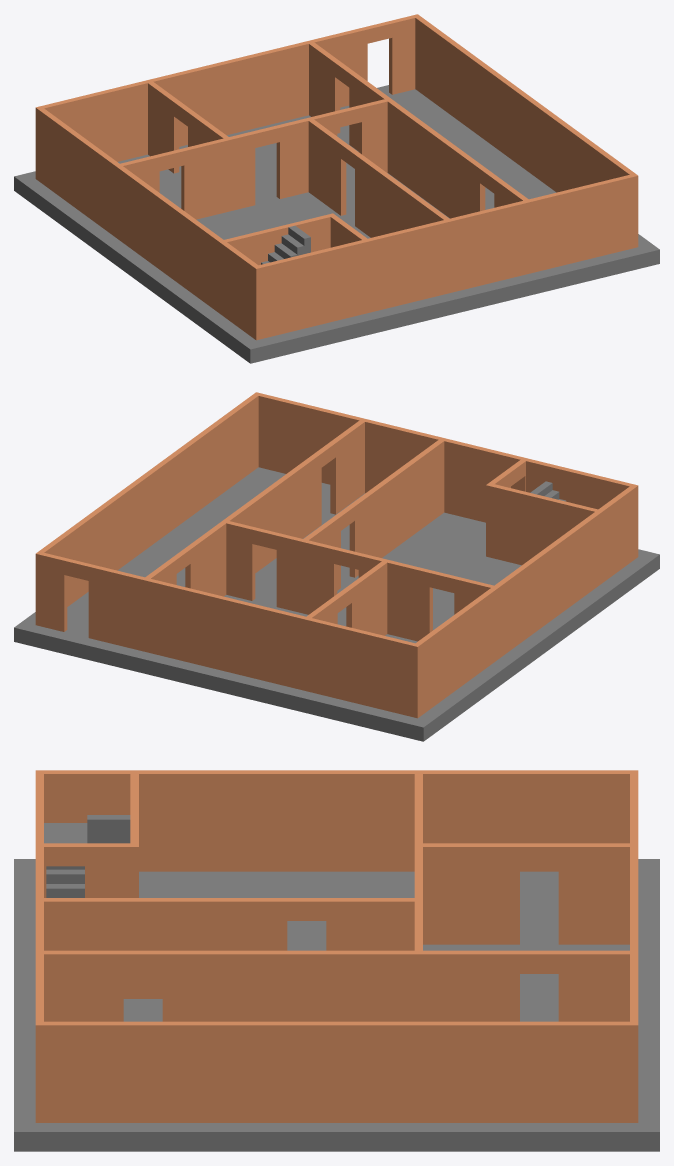
File: SM_Level_0.fbx
The picture shows the model from 3 angles, top to bottom: view 1: azimuth 30°, elevation 25°; view 2: azimuth 150°, elevation 25°; view 3: azimuth 270°, elevation 25°; orthographic projection. The views are drawn at different scales.
Visible parts, largest first — view 1: SM_Level_0; view 2: SM_Level_0; view 3: SM_Level_0.
Part boxes in pixels (left/top/right/bottom): SM_Level_0: left=14, top=14, right=659, bottom=363; SM_Level_0: left=14, top=392, right=659, bottom=741; SM_Level_0: left=14, top=770, right=659, bottom=1151.
Bounding box in the file's own units: 15 × 15 × 3.
